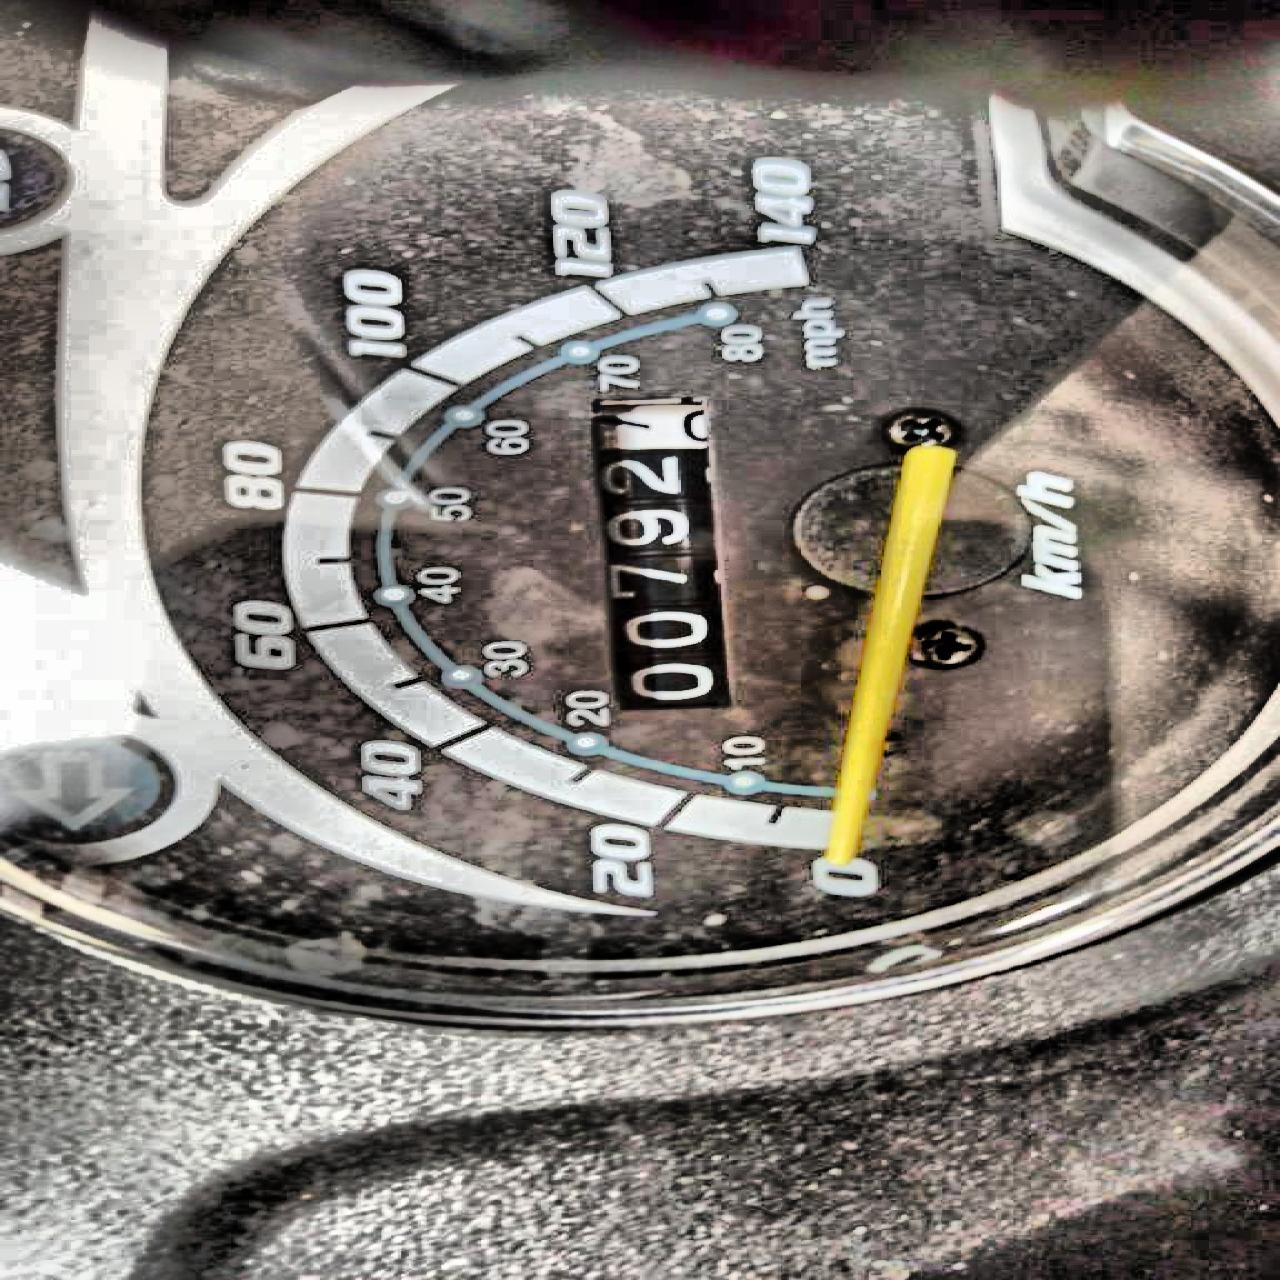0: (611, 607, 713, 648), (620, 659, 719, 701), (571, 688, 610, 708)
2: (593, 454, 694, 497)
7: (600, 559, 696, 600), (591, 410, 660, 449)
9: (598, 506, 693, 547)
odometer: (571, 388, 747, 714)
